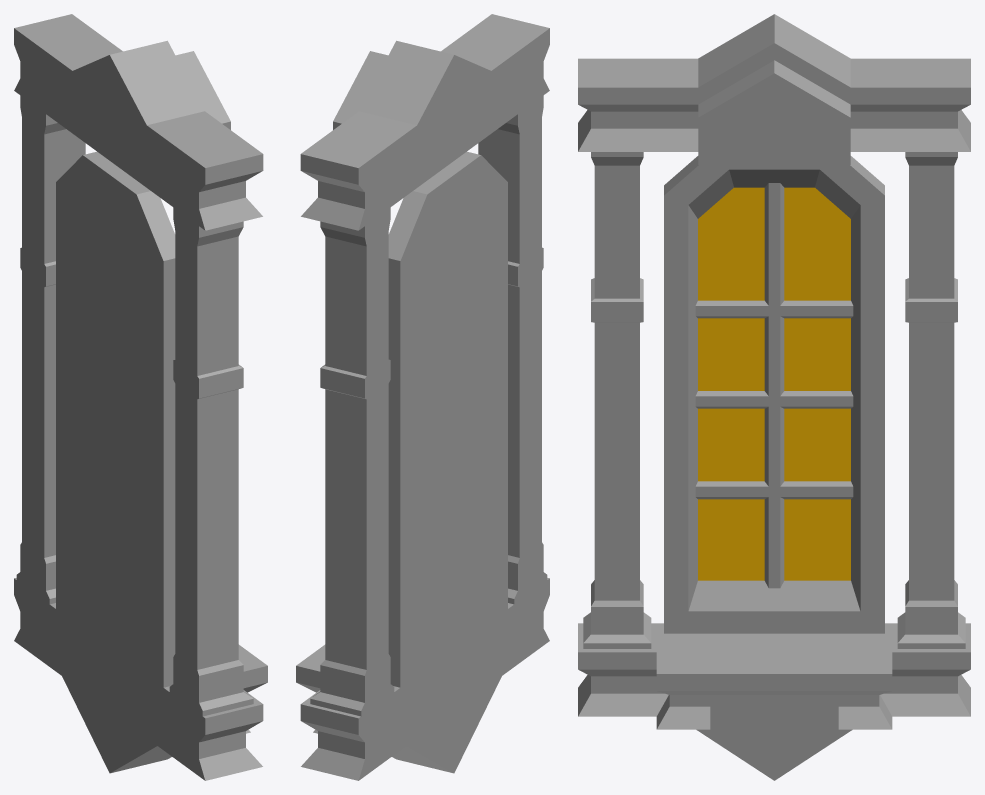
Rendered from Dungeon_New_Wall_Decoration_Window_01.fbx.
The picture shows the model from 3 angles, left to right: view 1: azimuth 30°, elevation 25°; view 2: azimuth 150°, elevation 25°; view 3: azimuth 270°, elevation 25°; orthographic projection. The views are drawn at different scales.
Parts seen in each view (by area): view 1: Model; view 2: Model; view 3: Model.
Part boxes in pixels (<box>): Model: <box>14,14,267,780</box>; Model: <box>296,14,549,780</box>; Model: <box>578,14,970,780</box>.
Bounding box in the file's own units: 63.3 × 431 × 208.
